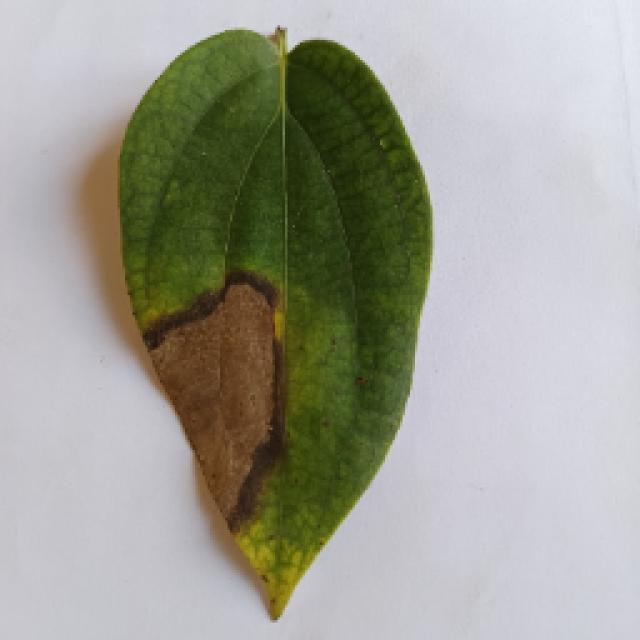footrot: (85, 30, 450, 622)
